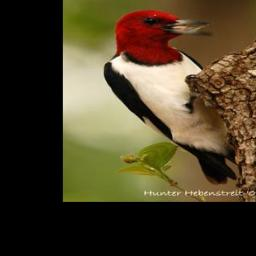Woodpecker: (102, 9, 236, 184)
